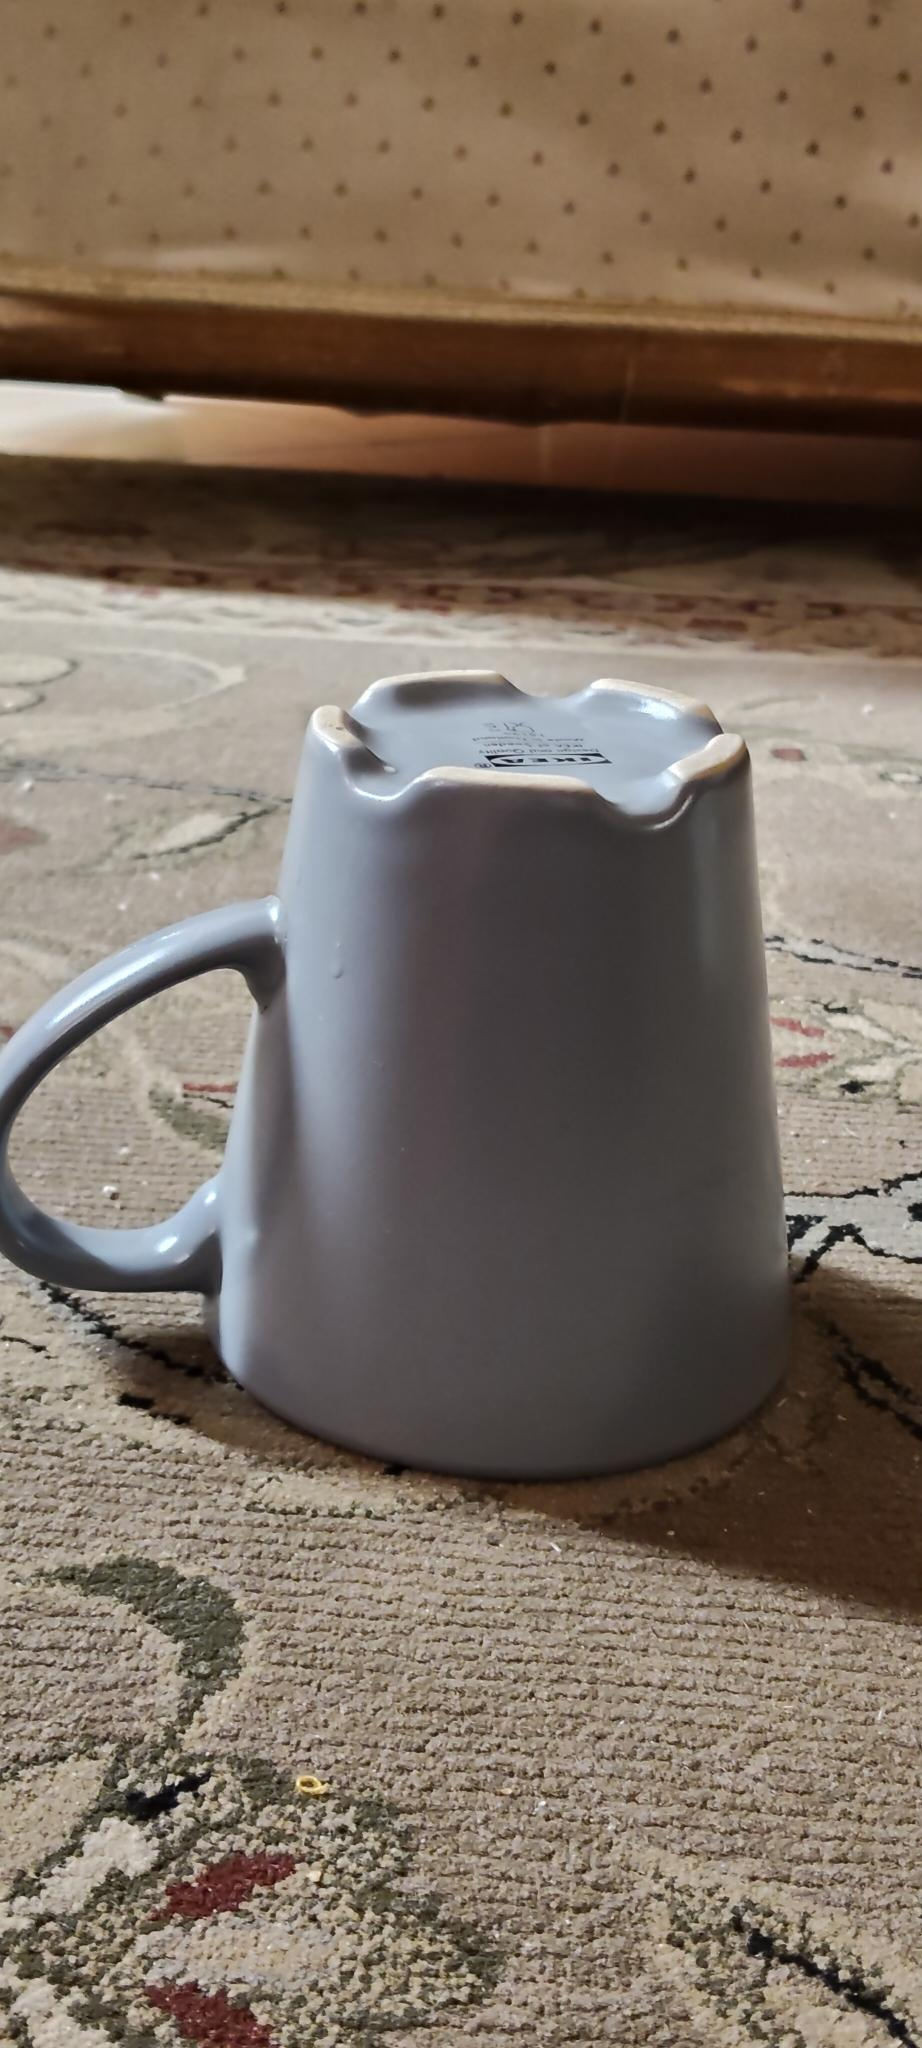Mug: (0, 668, 773, 1491)
